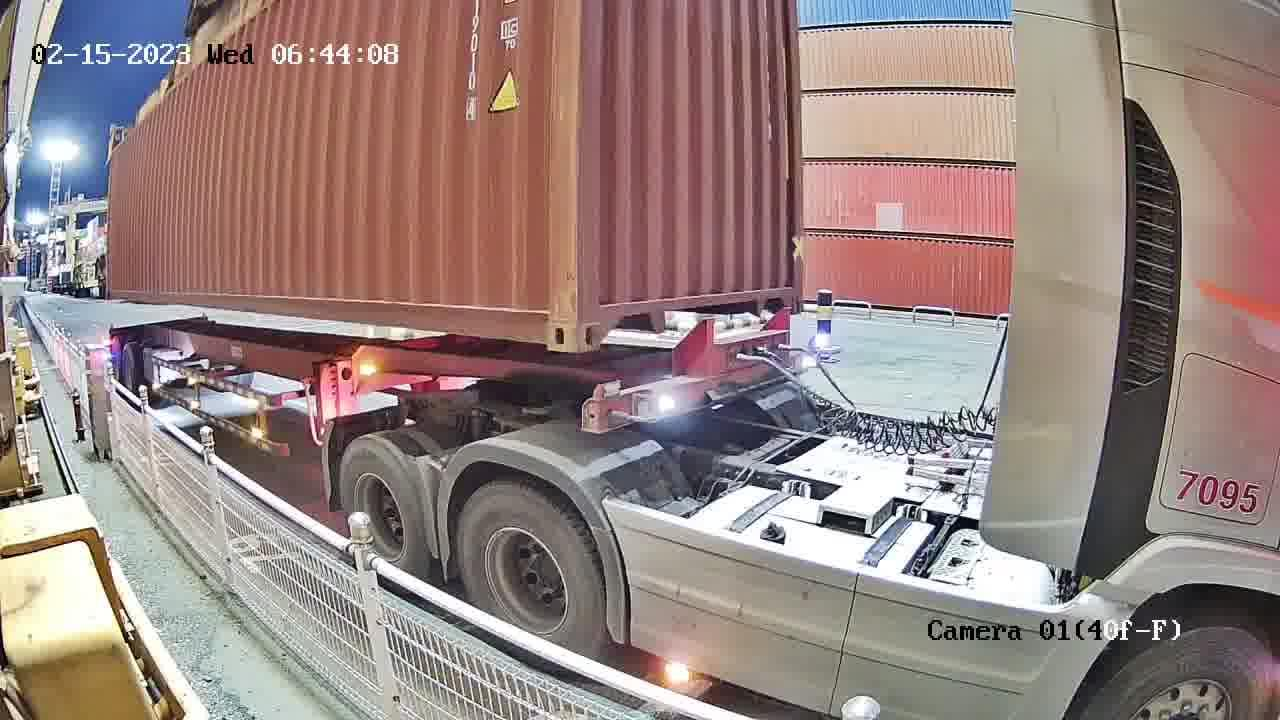Chassis: (583, 338, 813, 432)
Hole_L: (577, 278, 640, 349)
Hole_R: (507, 273, 582, 351), (766, 262, 805, 310)
Tire: (452, 484, 607, 658), (339, 442, 423, 572)
